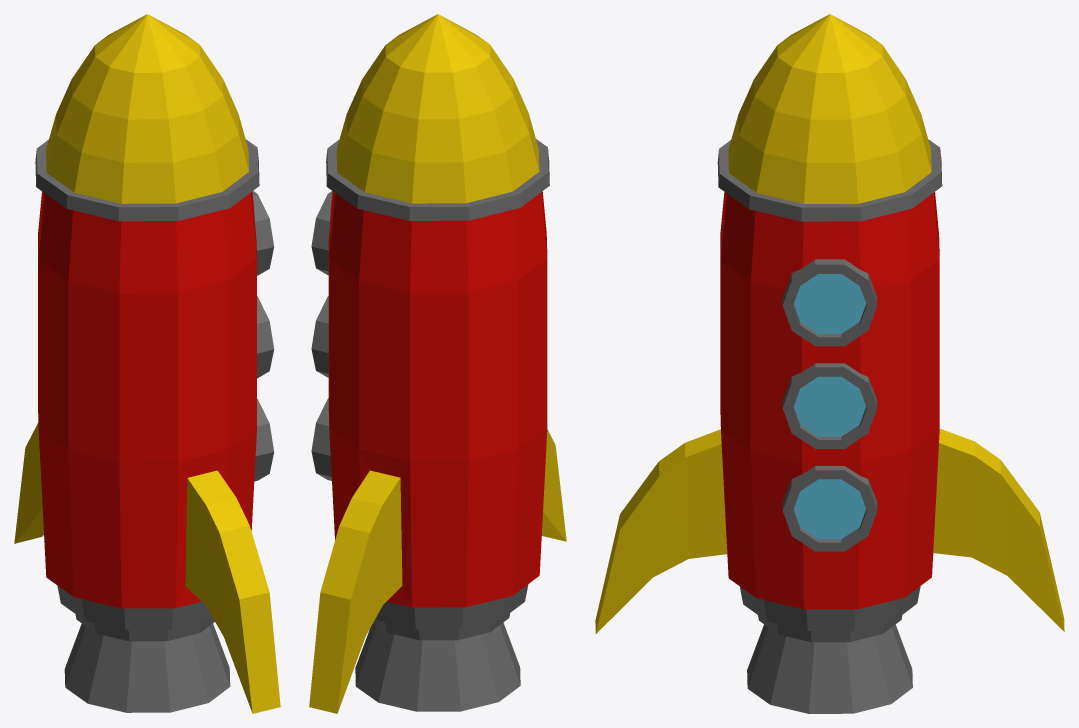
File: Rocket.fbx
The picture shows the model from 3 angles, left to right: view 1: azimuth 30°, elevation 25°; view 2: azimuth 150°, elevation 25°; view 3: azimuth 270°, elevation 25°; orthographic projection.
Parts seen in each view (by area): view 1: Cylinder, Cylinder.003, Cylinder.001, Cylinder.002, Circle.001, Circle.003, Circle.002; view 2: Cylinder, Cylinder.003, Cylinder.001, Cylinder.002, Circle.003, Circle.001, Circle.002; view 3: Cylinder, Cylinder.003, Circle.001, Circle.003, Circle.002, Cylinder.001, Cylinder.002.
Part boxes in pixels (x1,y1,x2,y2): Cylinder: [14, 14, 280, 713]; Cylinder.003: [64, 623, 230, 712]; Cylinder.001: [57, 585, 213, 629]; Cylinder.002: [75, 614, 214, 641]; Circle.001: [252, 191, 274, 275]; Circle.003: [254, 399, 273, 481]; Circle.002: [257, 296, 274, 378]; Cylinder: [309, 14, 566, 713]; Cylinder.003: [355, 622, 520, 711]; Cylinder.001: [375, 584, 528, 629]; Cylinder.002: [373, 613, 509, 640]; Circle.003: [311, 398, 331, 480]; Circle.001: [311, 191, 332, 275]; Circle.002: [311, 296, 328, 377]; Cylinder: [595, 14, 1064, 633]; Cylinder.003: [747, 624, 912, 713]; Circle.001: [782, 259, 877, 346]; Circle.003: [782, 466, 877, 551]; Circle.002: [782, 363, 877, 448]; Cylinder.001: [739, 586, 920, 630]; Cylinder.002: [758, 615, 902, 642].
Size of the model in its own units: 204 by 648 by 414.
